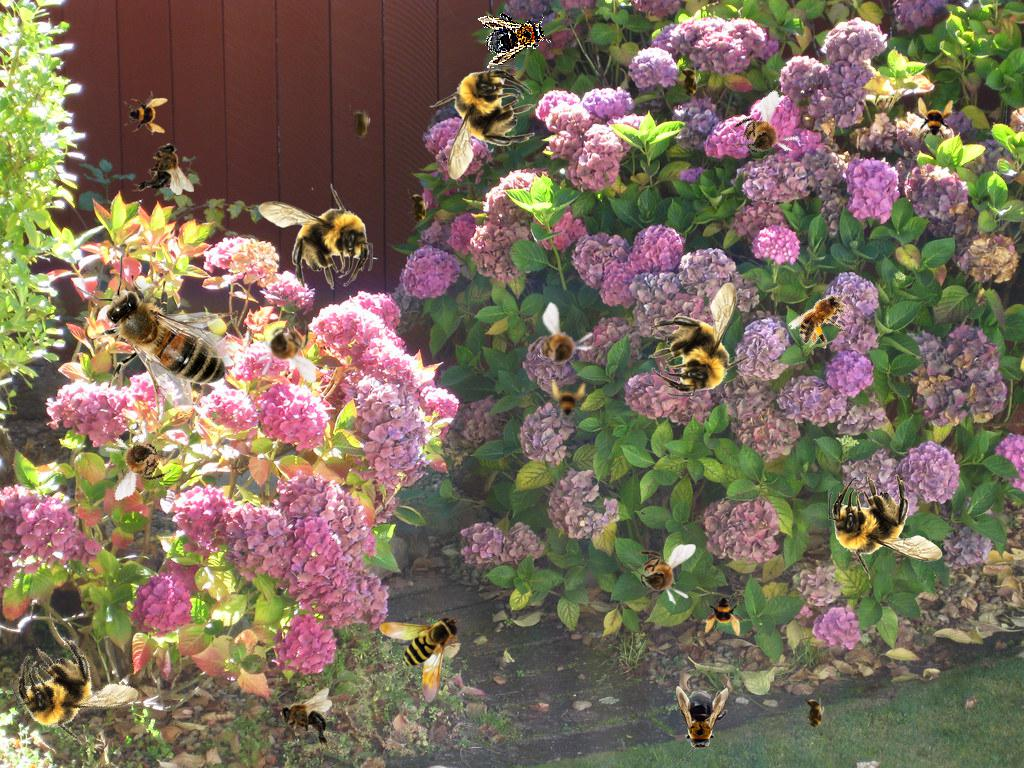Bee: (76, 255, 238, 422), (0, 617, 149, 762), (828, 473, 943, 580), (429, 65, 536, 180), (648, 282, 755, 397), (258, 183, 373, 290), (717, 89, 810, 179), (515, 300, 604, 392), (379, 615, 461, 703), (95, 420, 182, 502), (786, 277, 864, 358), (476, 3, 554, 69), (626, 544, 696, 605), (255, 313, 316, 383), (676, 686, 728, 754), (279, 688, 332, 750), (132, 142, 194, 195), (544, 379, 588, 423), (703, 592, 747, 636), (911, 97, 955, 141), (124, 91, 168, 135), (678, 63, 700, 103), (803, 694, 825, 734), (407, 189, 429, 229), (349, 105, 371, 145)
